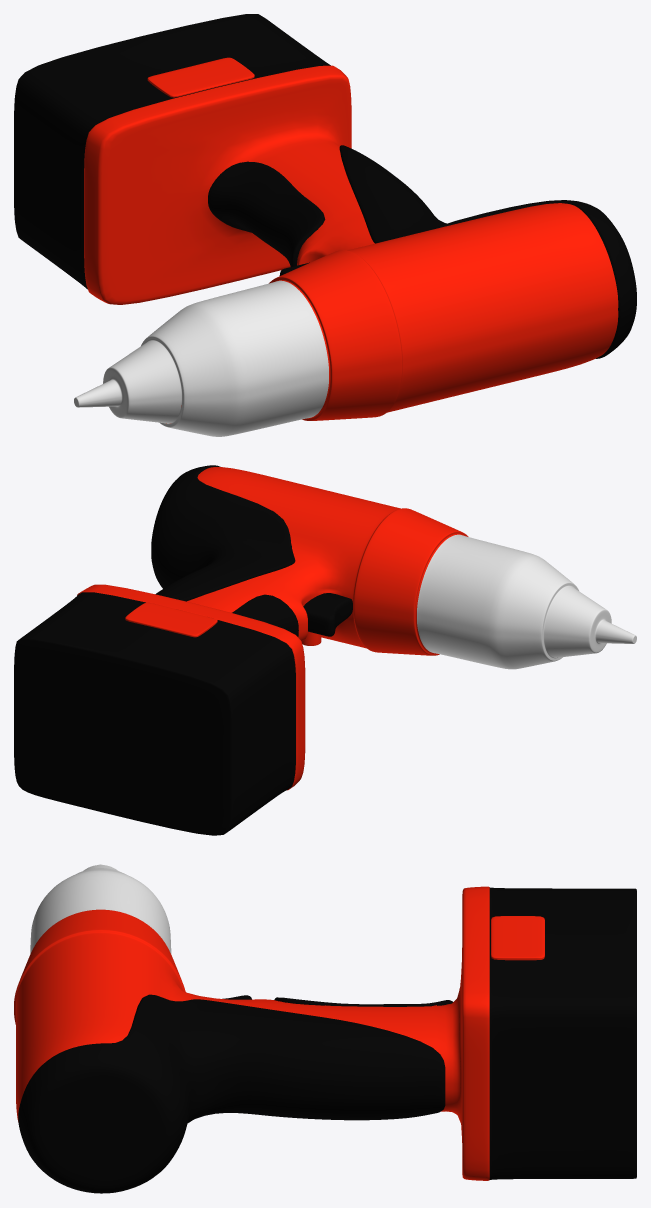
Rendered from DRILL_COLOR_TEST.glb.
3 renders of one model, top to bottom at view 1: azimuth 30°, elevation 25°; view 2: azimuth 150°, elevation 25°; view 3: azimuth 270°, elevation 25°, orthographic. The views are drawn at different scales.
Parts seen in each view (by area): view 1: 10108_Cordless_Drill_v2_Iteration2; view 2: 10108_Cordless_Drill_v2_Iteration2; view 3: 10108_Cordless_Drill_v2_Iteration2.
Boxes of the visible parts, box(x1,y1,x2,y2) form: 10108_Cordless_Drill_v2_Iteration2: box(14, 14, 636, 436); 10108_Cordless_Drill_v2_Iteration2: box(14, 465, 636, 835); 10108_Cordless_Drill_v2_Iteration2: box(14, 864, 636, 1193).
Size of the model in its own units: 17.07 by 5.86 by 17.23.
